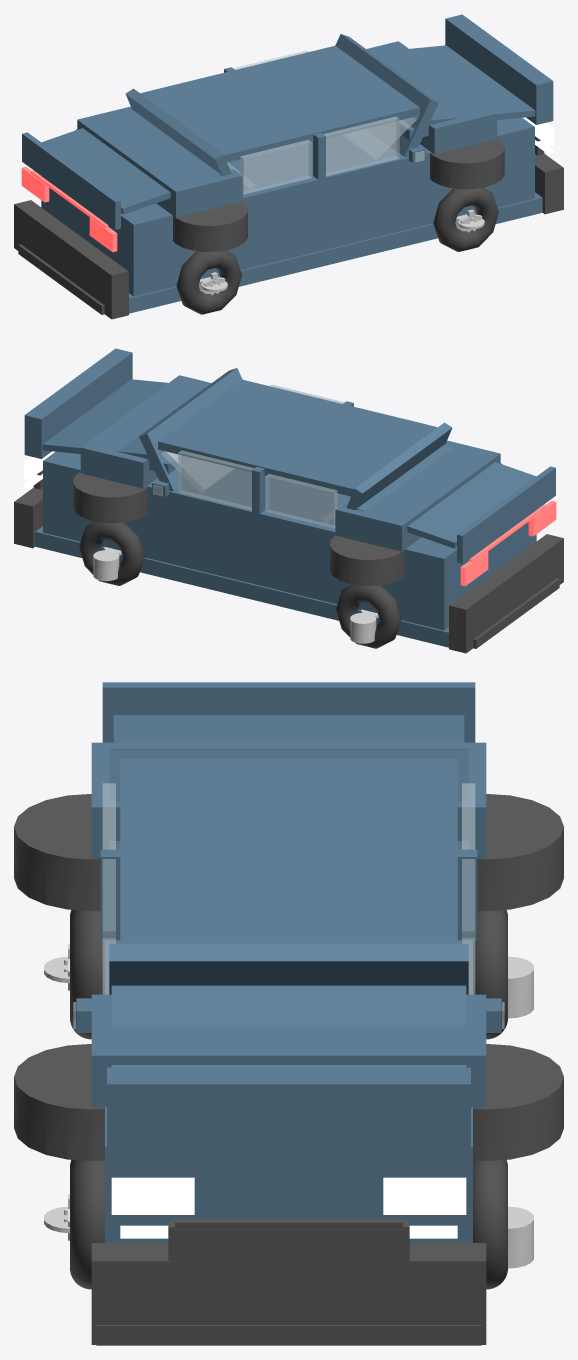
File: car.glb
The picture shows the model from 3 angles, top to bottom: view 1: azimuth 30°, elevation 25°; view 2: azimuth 150°, elevation 25°; view 3: azimuth 270°, elevation 25°; orthographic projection. The views are drawn at different scales.
Visible parts, largest first — view 1: body, bumpers, glass, tires, taillights, rims, headlights; view 2: body, bumpers, glass, tires, rims, taillights, headlights; view 3: body, bumpers, tires, headlights, glass, rims.
Part boxes in pixels (x1,y1,x2,y2): body: (22, 14, 553, 313); bumpers: (14, 129, 563, 319); glass: (151, 50, 424, 194); tires: (176, 187, 498, 314); taillights: (21, 166, 117, 252); rims: (198, 209, 484, 295); headlights: (527, 119, 554, 154); body: (24, 348, 555, 647); bumpers: (14, 463, 563, 653); glass: (153, 384, 426, 528); tires: (79, 521, 401, 648); rims: (93, 546, 378, 643); taillights: (460, 500, 556, 586); headlights: (23, 453, 50, 488); body: (76, 682, 501, 1242); bumpers: (14, 794, 563, 1345); tires: (70, 910, 507, 1289); headlights: (111, 1177, 466, 1238); glass: (73, 783, 504, 1029); rims: (44, 944, 533, 1268).
Size of the model in its own units: 4.79 by 1.54 by 2.51.
